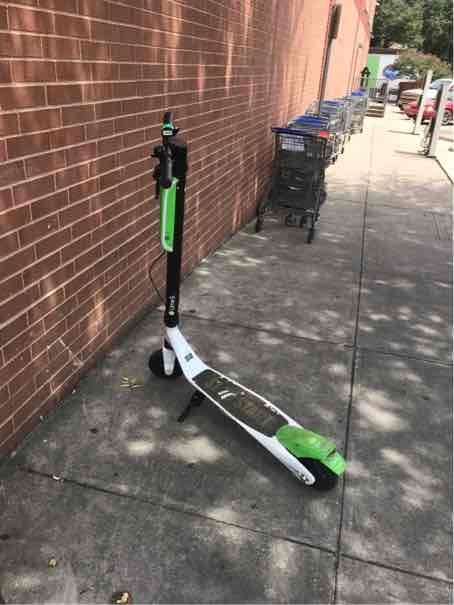scooter: (139, 95, 353, 502)
